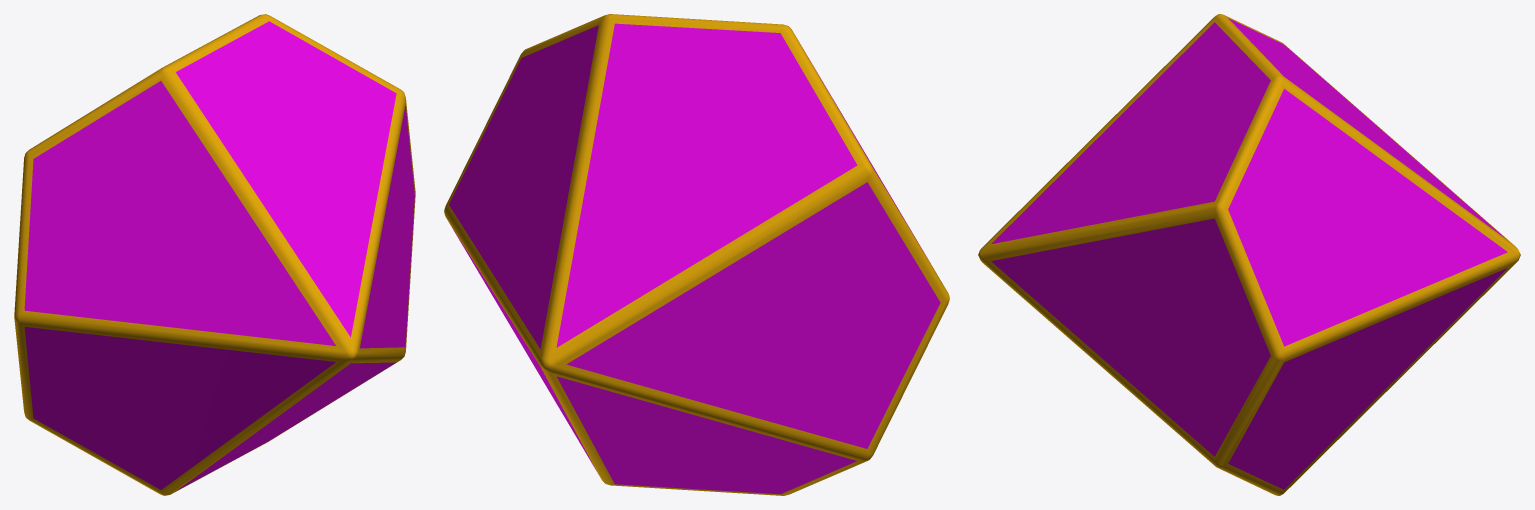
The model's file is prp_D10.fbx.
3 renders of one model, left to right at view 1: azimuth 30°, elevation 25°; view 2: azimuth 150°, elevation 25°; view 3: azimuth 270°, elevation 25°, orthographic. The views are drawn at different scales.
Visible parts, largest first — view 1: prp_D10; view 2: prp_D10; view 3: prp_D10.
Part boxes in pixels (box(x1,y1,x2,y2)): prp_D10: box(14, 14, 415, 495); prp_D10: box(444, 14, 949, 495); prp_D10: box(978, 14, 1520, 495).
Bounding box in the file's own units: 0.852 × 0.9527 × 0.8129.
